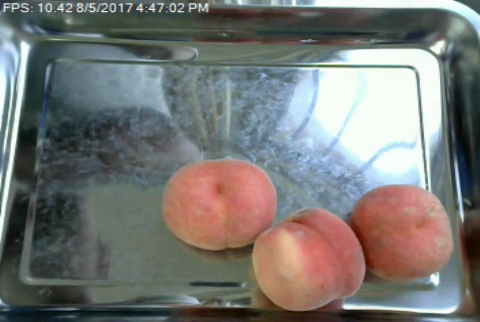Peach: (250, 208, 366, 313), (162, 157, 281, 251), (351, 184, 453, 280)
